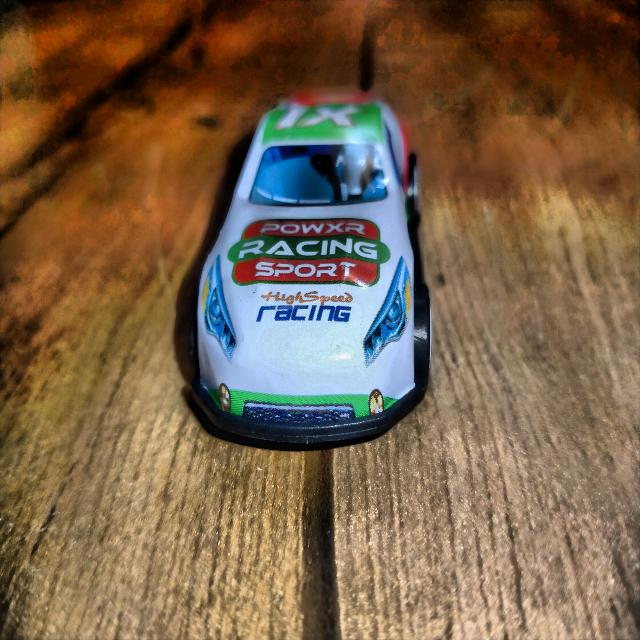Car: (193, 93, 429, 444)
